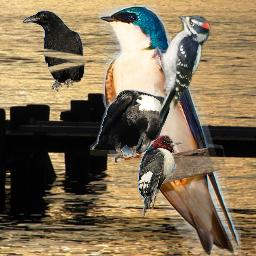Crow: (90, 88, 171, 160), (22, 10, 85, 92)
Swallow: (99, 5, 241, 256)
Woodpecker: (154, 12, 212, 123), (138, 135, 183, 217)
